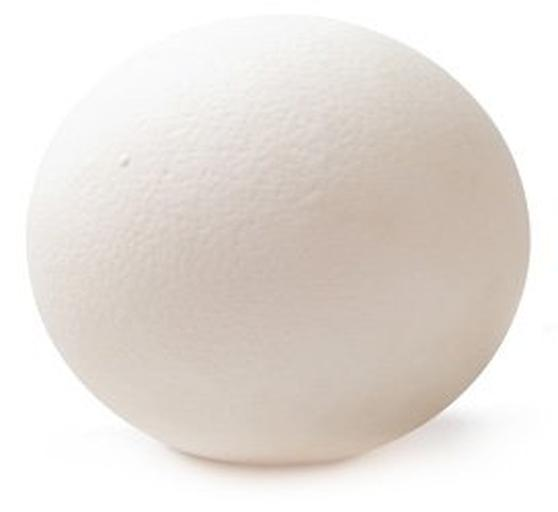egg: (29, 11, 529, 468)
